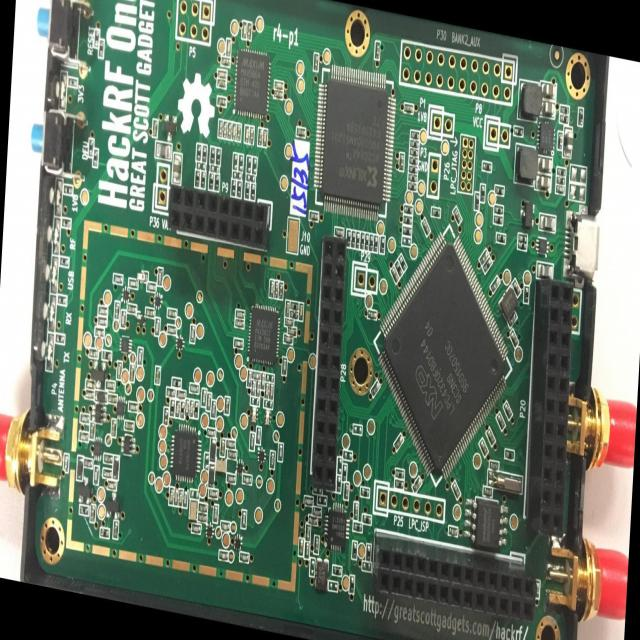Button: (29, 105, 76, 178), (34, 0, 83, 68)
Capacitor Jumper: (562, 126, 574, 160), (538, 212, 556, 233), (172, 152, 183, 186), (534, 174, 552, 193), (540, 81, 557, 101), (540, 100, 556, 121), (537, 155, 553, 176), (536, 261, 553, 280), (450, 478, 462, 502), (495, 411, 507, 433), (485, 426, 496, 448), (420, 216, 431, 237), (504, 400, 514, 421), (479, 437, 489, 458), (452, 206, 462, 225), (509, 329, 519, 348), (370, 380, 380, 398), (394, 434, 404, 452), (479, 248, 489, 266), (308, 209, 319, 223), (313, 535, 320, 556), (374, 40, 381, 61), (413, 476, 421, 494), (491, 276, 500, 292), (403, 102, 414, 115), (216, 95, 227, 108), (352, 501, 359, 521), (448, 524, 458, 538), (89, 503, 96, 523), (557, 130, 564, 150), (391, 266, 399, 283), (282, 334, 294, 345), (155, 364, 161, 386), (273, 88, 284, 100), (399, 150, 405, 172), (296, 125, 306, 138), (298, 536, 304, 557), (262, 127, 268, 148), (257, 127, 263, 148), (152, 117, 158, 138), (278, 280, 284, 301), (234, 308, 245, 319), (482, 487, 493, 498), (216, 78, 227, 89), (298, 302, 304, 322), (145, 306, 155, 318), (114, 300, 120, 320), (124, 420, 134, 432), (111, 418, 117, 438), (227, 448, 237, 460), (84, 457, 94, 469), (113, 520, 119, 540), (246, 20, 252, 40), (313, 52, 319, 72), (221, 56, 231, 68), (236, 122, 242, 142), (249, 125, 255, 145), (107, 479, 116, 492), (224, 396, 230, 415), (168, 487, 174, 506), (241, 21, 247, 40), (234, 318, 244, 329), (168, 308, 178, 319), (274, 79, 284, 90), (217, 69, 227, 80), (226, 37, 232, 55), (334, 227, 343, 239), (285, 299, 290, 319), (284, 317, 294, 327), (287, 326, 297, 336), (189, 398, 194, 418), (308, 516, 318, 526), (178, 488, 183, 508), (244, 124, 249, 144), (274, 280, 279, 300), (368, 309, 377, 320), (489, 461, 498, 472), (128, 304, 136, 316), (130, 363, 135, 382), (220, 438, 225, 457), (108, 394, 117, 404), (90, 422, 95, 440), (344, 481, 349, 499), (199, 503, 208, 513), (198, 514, 207, 524), (104, 454, 112, 465), (269, 384, 274, 399), (232, 122, 236, 140), (265, 383, 269, 399)
Connector: (371, 528, 538, 624), (523, 277, 574, 537), (309, 236, 346, 492), (543, 533, 629, 633), (398, 38, 515, 107), (564, 381, 638, 482), (168, 185, 272, 253), (0, 404, 65, 499), (562, 207, 601, 285), (375, 486, 446, 524), (175, 0, 212, 46), (457, 134, 476, 196), (353, 265, 379, 295), (487, 120, 512, 150), (430, 108, 455, 138), (155, 162, 170, 211), (426, 151, 441, 199), (571, 286, 583, 336)
IC: (368, 210, 520, 503), (314, 66, 394, 216), (234, 45, 272, 119), (463, 494, 509, 554), (247, 302, 280, 367), (170, 422, 202, 486), (324, 503, 351, 553), (536, 120, 555, 154), (500, 286, 518, 320), (315, 558, 329, 592), (120, 432, 136, 458), (92, 403, 106, 426), (535, 235, 549, 256), (119, 335, 132, 355), (93, 436, 103, 461), (117, 398, 126, 421), (257, 446, 266, 464), (235, 458, 244, 476), (121, 286, 130, 302), (176, 335, 184, 352), (205, 524, 214, 539), (154, 293, 162, 309), (234, 534, 242, 550)
Led: (33, 252, 60, 296), (36, 174, 64, 216), (36, 213, 62, 256), (44, 65, 68, 111), (30, 328, 55, 371), (31, 292, 57, 333)
Pads: (567, 184, 586, 205), (569, 163, 587, 184), (352, 423, 363, 437), (361, 560, 372, 574), (196, 160, 207, 172), (328, 580, 338, 593), (336, 457, 343, 475), (246, 155, 252, 176), (310, 557, 316, 577), (232, 151, 238, 171), (252, 155, 258, 175), (342, 450, 352, 461), (238, 153, 244, 171), (250, 397, 260, 407), (210, 164, 220, 174), (232, 170, 242, 180), (246, 173, 256, 183), (264, 400, 273, 410)
Resistor: (379, 233, 386, 256), (504, 448, 515, 462), (359, 486, 370, 500), (495, 231, 506, 245), (62, 183, 73, 197), (353, 520, 363, 535), (335, 474, 342, 495), (351, 539, 358, 560), (577, 107, 584, 128), (479, 183, 486, 204), (59, 255, 70, 268), (79, 504, 90, 517), (481, 160, 492, 173), (193, 399, 200, 419), (215, 147, 222, 167), (101, 350, 112, 362), (361, 514, 372, 526), (349, 574, 355, 596), (513, 126, 524, 138), (402, 214, 413, 226), (401, 235, 412, 247), (332, 564, 342, 577), (494, 204, 504, 217), (61, 217, 71, 230), (98, 38, 104, 59), (88, 137, 94, 158), (214, 172, 220, 193), (359, 230, 365, 251), (523, 286, 530, 304), (57, 294, 67, 306), (55, 334, 65, 346), (172, 377, 182, 389), (180, 400, 186, 420), (394, 479, 404, 491), (317, 494, 327, 506), (100, 528, 110, 540), (560, 104, 570, 116), (559, 114, 569, 126), (94, 28, 100, 48), (495, 186, 505, 198), (474, 192, 480, 212), (202, 144, 208, 164), (209, 146, 215, 166), (493, 215, 503, 227), (431, 206, 441, 218), (208, 172, 214, 192), (93, 148, 99, 168), (244, 182, 250, 202), (373, 234, 379, 254), (395, 468, 404, 481), (200, 172, 206, 191), (236, 180, 242, 199), (364, 233, 370, 252), (399, 258, 407, 272), (312, 486, 323, 496), (68, 77, 78, 88), (407, 172, 418, 182), (403, 204, 413, 215), (402, 226, 412, 237), (342, 464, 348, 482), (366, 544, 372, 562), (196, 143, 202, 161), (194, 170, 200, 188), (230, 179, 236, 197), (250, 183, 256, 201), (556, 176, 566, 186), (409, 147, 419, 157), (408, 164, 418, 174), (407, 182, 417, 192), (518, 232, 528, 242), (346, 228, 351, 248), (351, 229, 356, 249), (411, 129, 419, 141), (369, 233, 374, 252), (484, 259, 491, 272), (557, 167, 566, 177), (408, 157, 418, 166), (518, 242, 527, 252), (170, 399, 175, 416), (355, 232, 360, 249), (396, 262, 402, 276), (410, 139, 419, 148), (290, 310, 298, 320), (291, 302, 299, 311)
Test Point: (175, 86, 320, 362), (285, 215, 300, 256), (549, 44, 564, 70), (295, 57, 305, 78), (283, 141, 293, 162), (513, 344, 523, 364), (184, 300, 194, 320), (238, 362, 248, 382), (135, 411, 145, 431), (487, 188, 497, 208), (162, 273, 172, 292), (195, 322, 205, 341), (135, 364, 145, 383), (275, 410, 285, 429), (362, 463, 372, 482), (352, 470, 362, 489), (452, 503, 462, 522), (284, 98, 294, 117), (158, 329, 167, 349), (193, 367, 203, 385), (366, 418, 376, 436), (472, 452, 482, 470), (136, 384, 145, 404), (215, 414, 224, 434), (408, 461, 418, 479), (157, 438, 167, 456), (158, 453, 168, 471), (265, 477, 275, 495), (234, 487, 244, 505), (224, 488, 234, 506), (254, 505, 263, 525), (96, 486, 106, 504), (221, 532, 231, 550), (229, 18, 239, 36), (216, 37, 226, 55), (416, 180, 426, 198), (404, 188, 414, 206), (80, 186, 89, 206), (378, 278, 388, 296), (409, 242, 418, 261), (341, 432, 351, 449), (474, 212, 484, 229), (473, 228, 483, 245), (386, 236, 396, 253), (234, 352, 243, 370), (83, 330, 92, 348), (239, 412, 248, 430), (509, 513, 518, 531), (357, 542, 366, 560), (97, 503, 106, 521), (341, 574, 350, 592), (523, 269, 532, 287), (502, 268, 511, 286), (364, 292, 373, 310), (440, 139, 450, 155), (103, 289, 112, 306), (146, 386, 155, 403), (197, 481, 206, 498), (255, 14, 264, 31), (414, 198, 423, 215), (308, 352, 316, 370), (104, 333, 113, 349), (200, 413, 209, 429), (162, 471, 171, 487), (419, 128, 428, 144), (280, 174, 288, 192), (287, 346, 295, 363), (95, 335, 103, 352), (206, 370, 214, 387), (216, 395, 224, 412), (155, 477, 163, 494), (322, 49, 331, 64), (376, 220, 385, 235), (121, 368, 129, 384), (230, 426, 238, 442), (200, 469, 208, 485), (296, 77, 304, 93), (158, 425, 167, 439), (104, 432, 112, 447), (196, 290, 204, 304), (112, 319, 120, 333), (216, 368, 224, 382), (124, 382, 132, 396), (255, 475, 263, 489), (273, 498, 281, 512), (175, 316, 182, 330), (129, 351, 136, 365), (230, 520, 237, 534), (215, 525, 222, 539), (228, 551, 235, 565), (272, 430, 280, 442), (148, 472, 155, 485)
Transistor: (90, 360, 106, 390), (162, 113, 178, 142), (78, 475, 92, 506), (520, 201, 535, 229), (106, 492, 120, 519)
Unknown Unlabeled: (518, 78, 542, 122), (514, 143, 538, 185), (487, 470, 523, 496), (154, 139, 173, 161), (188, 500, 199, 521), (76, 455, 84, 483), (94, 390, 108, 405), (112, 455, 120, 481), (209, 438, 217, 463), (208, 463, 216, 488), (215, 459, 227, 474), (62, 452, 70, 474), (112, 272, 124, 286), (137, 269, 148, 283), (189, 381, 200, 395), (269, 449, 276, 471), (218, 549, 229, 563), (264, 408, 272, 427), (120, 308, 127, 329), (189, 323, 196, 344), (281, 356, 288, 377), (116, 361, 123, 382), (277, 442, 284, 463), (268, 278, 275, 299), (242, 473, 253, 486), (555, 182, 566, 195), (210, 400, 217, 420), (255, 426, 262, 446), (208, 487, 218, 501), (241, 508, 247, 531), (233, 338, 244, 350), (94, 326, 105, 338), (225, 438, 236, 450), (128, 277, 138, 290), (167, 323, 177, 336), (128, 400, 138, 413), (79, 431, 89, 444), (154, 315, 160, 336), (201, 387, 207, 408), (251, 406, 258, 424), (249, 431, 255, 452), (213, 504, 219, 525), (311, 506, 322, 517), (157, 266, 163, 286), (146, 281, 156, 293), (97, 316, 107, 328), (206, 392, 212, 412), (105, 380, 115, 392), (163, 407, 169, 427), (80, 413, 90, 425), (93, 465, 99, 485), (191, 523, 201, 535), (137, 347, 143, 366), (173, 488, 179, 507), (165, 388, 176, 398), (85, 380, 95, 391), (85, 390, 95, 401), (206, 428, 216, 439), (226, 473, 236, 484), (189, 489, 199, 500), (220, 521, 230, 532), (239, 552, 249, 563), (252, 370, 261, 382), (103, 468, 112, 480), (305, 523, 311, 541), (304, 542, 310, 560), (247, 368, 252, 389), (227, 119, 232, 140), (223, 119, 228, 140), (88, 349, 98, 359), (176, 389, 186, 399), (175, 400, 180, 419), (183, 489, 188, 508), (98, 306, 107, 316), (265, 373, 274, 383), (260, 372, 265, 390), (251, 378, 256, 396), (255, 380, 260, 398), (304, 496, 313, 506), (218, 119, 223, 137), (185, 399, 190, 416), (204, 454, 209, 470)
